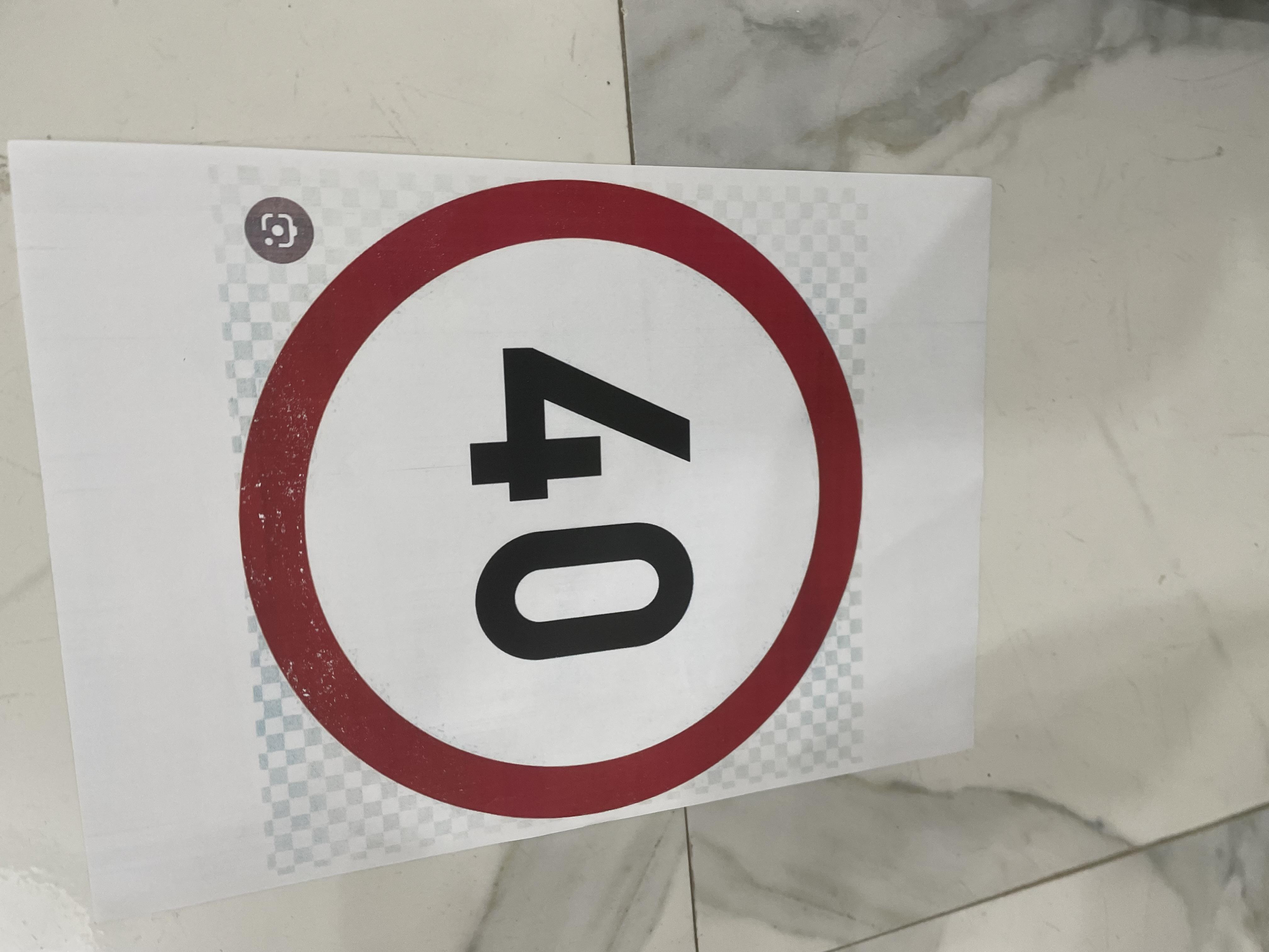40-Speed: (152, 182, 1046, 659)
